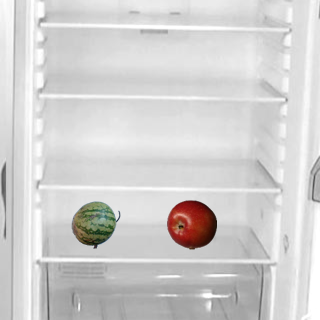Apple Braeburn: (166, 199, 216, 249)
Watermelon: (70, 199, 120, 249)
